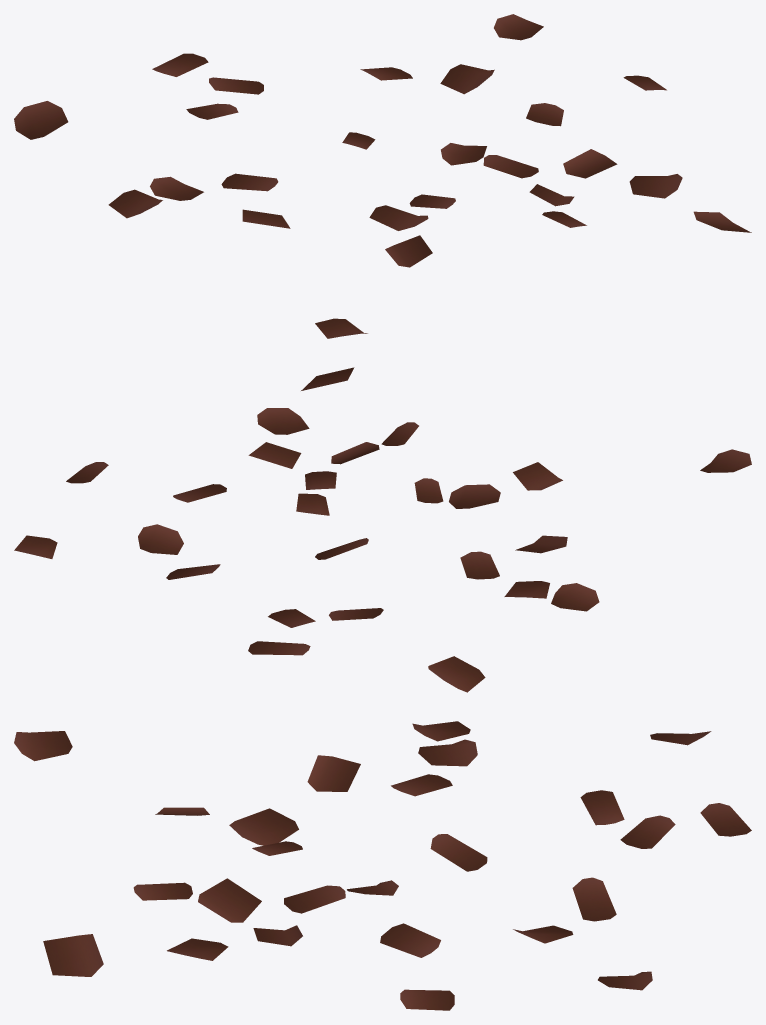
File: environment_scattered_leaves_a.fbx
3 renders of one model, top to bottom at view 1: azimuth 30°, elevation 25°; view 2: azimuth 150°, elevation 25°; view 3: azimuth 270°, elevation 25°, orthographic. The views are drawn at different scales.
Parts seen in each view (by area): view 1: scattared_leaves_a; view 2: scattared_leaves_a; view 3: scattared_leaves_a.
Boxes of the visible parts, x1=… form: scattared_leaves_a: x1=14, y1=14, x2=751, y2=338; scattared_leaves_a: x1=14, y1=367, x2=751, y2=692; scattared_leaves_a: x1=14, y1=721, x2=751, y2=1010.
Bounding box in the file's own units: 689 × 25.28 × 744.
